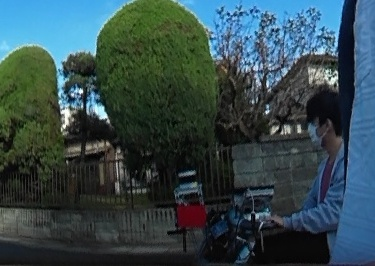person: (297, 87, 352, 266)
